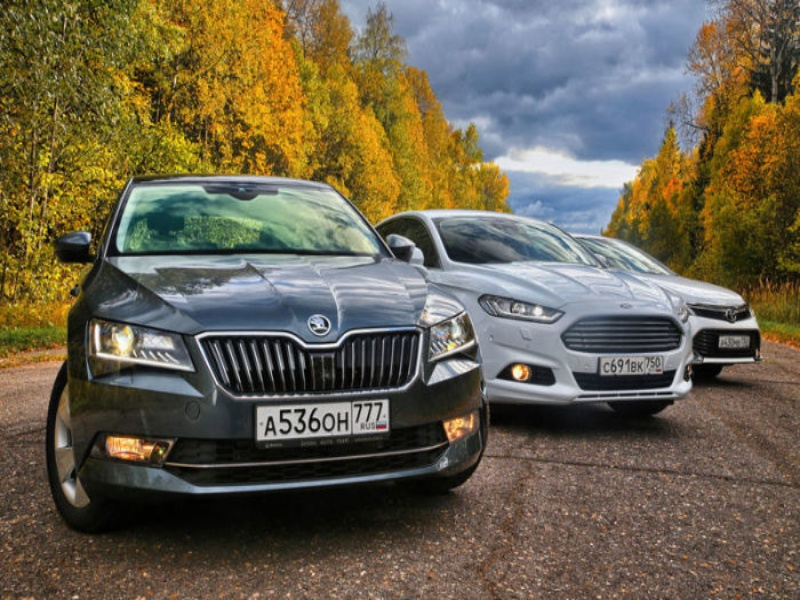car: (45, 175, 489, 523), (374, 208, 693, 413), (573, 233, 763, 378)
plate: (257, 400, 389, 440), (599, 355, 662, 374), (719, 335, 750, 347)
